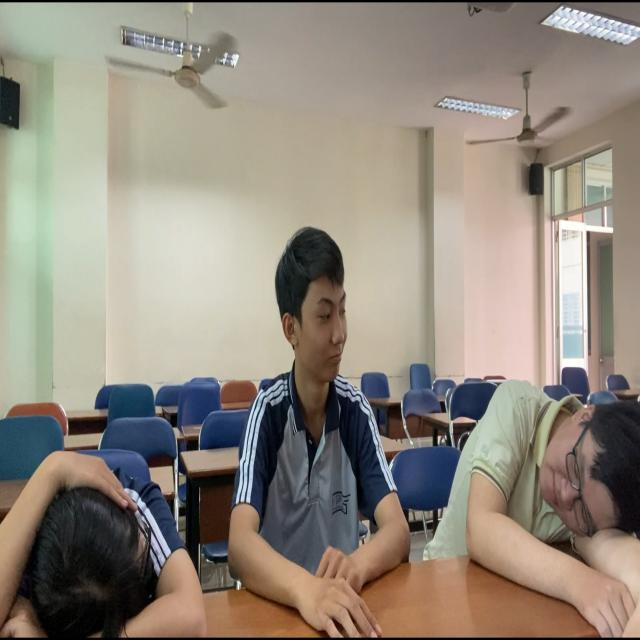sleep: (434, 378, 640, 640), (1, 438, 215, 640)
